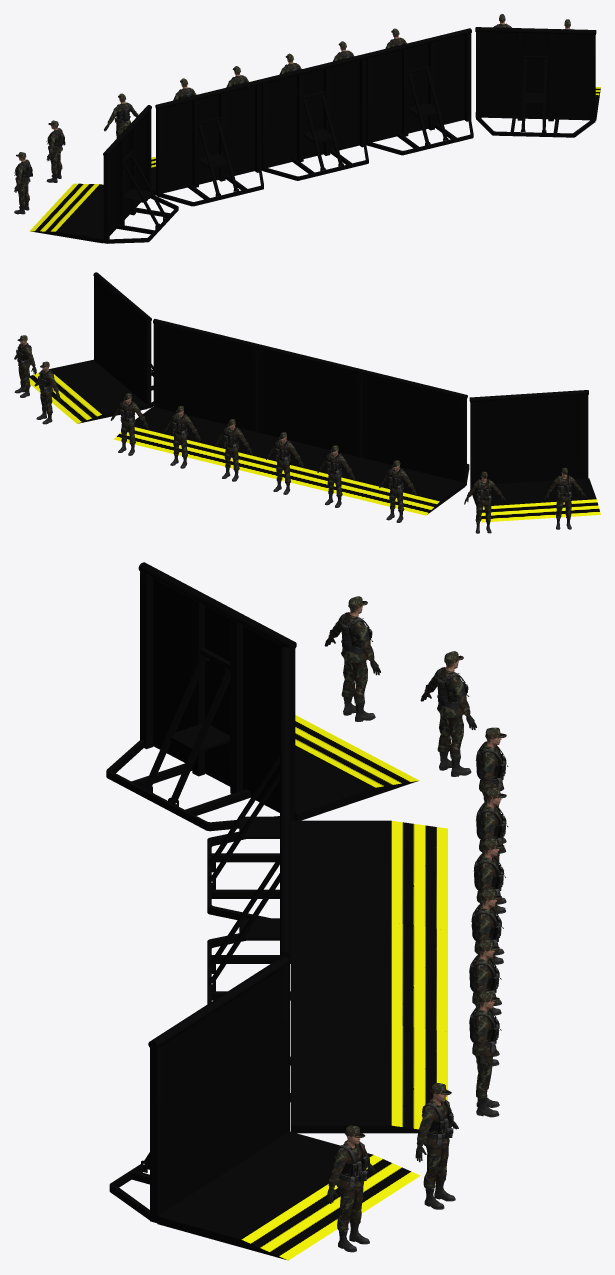
The model's file is barricade_north.glb.
3 views of the same model, one above another, from view 1: azimuth 30°, elevation 25°; view 2: azimuth 150°, elevation 25°; view 3: azimuth 270°, elevation 25° (orthographic). The views are drawn at different scales.
Visible parts, largest first — view 1: Plane_0.003, Plane_0.002, Plane_0.001, Plane_0.005, Plane_0.004, Object_9.012, Object_9.015, Object_9.016; view 2: Plane_0.004, Plane_0.002, Plane_0.001, Plane_0.005, Plane_0.003, Object_9.004, Object_9.012, Object_9.015, Object_9.005, Object_9.016, Object_9.017, Object_9 (+3 smaller); view 3: Plane_0.003, Plane_0.004, Plane_0.002, Plane_0.005, Plane_0.001, Object_9.014, Object_9.015, Object_9.012, Object_9.013, Object_9.017, Object_9.016, Object_9.003 (+3 smaller).
Part boxes in pixels (<box>): Plane_0.003: <box>475,27,600,137</box>; Plane_0.002: <box>151,79,263,206</box>; Plane_0.001: <box>366,28,473,155</box>; Plane_0.005: <box>261,53,368,180</box>; Plane_0.004: <box>29,105,178,243</box>; Object_9.012: <box>14,152,32,214</box>; Object_9.015: <box>46,120,65,182</box>; Object_9.016: <box>104,93,138,138</box>; Plane_0.004: <box>469,390,600,522</box>; Plane_0.002: <box>322,369,469,515</box>; Plane_0.001: <box>114,319,258,464</box>; Plane_0.005: <box>218,344,362,490</box>; Plane_0.003: <box>29,272,153,423</box>; Object_9.004: <box>214,419,252,481</box>; Object_9.012: <box>544,467,586,529</box>; Object_9.015: <box>464,471,505,533</box>; Object_9.005: <box>317,445,355,507</box>; Object_9.016: <box>379,460,416,522</box>; Object_9.017: <box>110,393,148,455</box>; Object_9: <box>163,406,200,468</box>; Plane_0.003: <box>109,956,420,1260</box>; Plane_0.004: <box>106,562,419,831</box>; Plane_0.002: <box>207,647,447,929</box>; Plane_0.005: <box>207,748,447,1031</box>; Plane_0.001: <box>279,850,447,1133</box>; Object_9.014: <box>327,1125,376,1252</box>; Object_9.015: <box>420,651,476,776</box>; Object_9.012: <box>324,596,380,721</box>; Object_9.013: <box>415,1083,458,1209</box>; Object_9.017: <box>469,991,501,1117</box>; Object_9.016: <box>475,727,508,853</box>; Object_9.003: <box>473,838,505,964</box>.
Size of the model in its own units: 16.52 by 2.51 by 5.01.
Materials: 95 (90 with a texture image).
